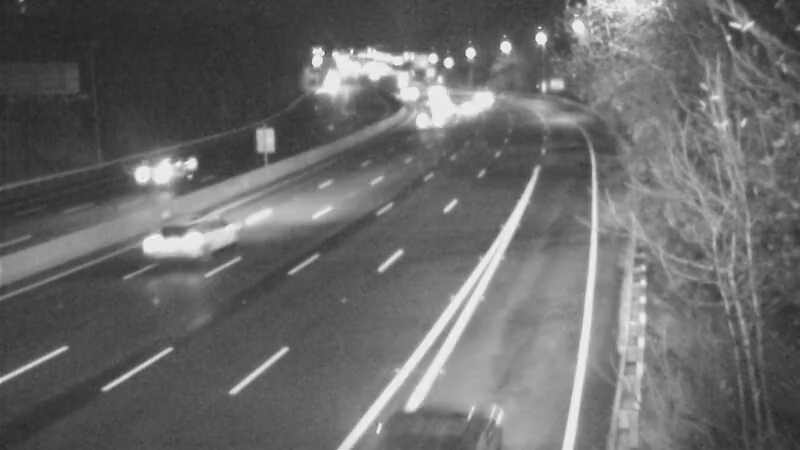vehicle: (135, 206, 215, 286), (116, 134, 196, 214), (383, 72, 433, 122), (455, 70, 505, 120), (441, 85, 491, 135), (403, 95, 453, 145)
